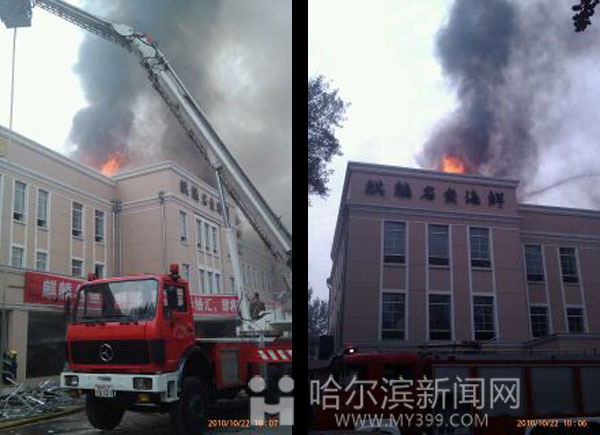fire: (98, 142, 127, 175), (435, 147, 473, 172)
